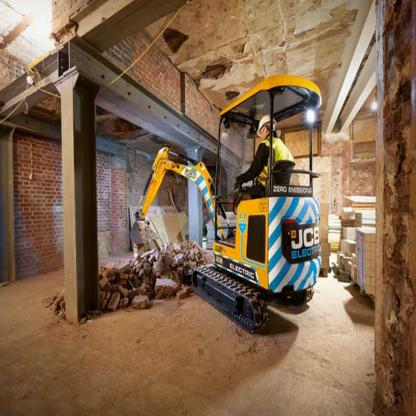excavator: (128, 72, 331, 335)
